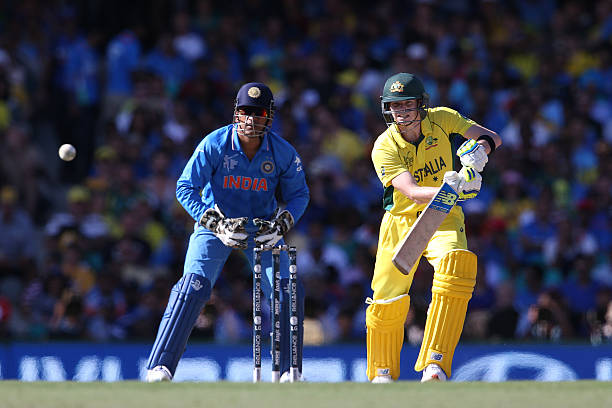bottom left: (384, 247, 401, 264)
bottom right: (400, 259, 414, 283)
top left: (437, 175, 453, 190)
top right: (451, 187, 463, 209)
